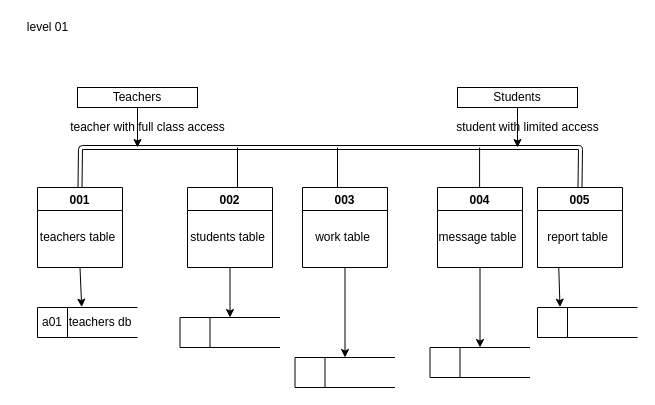
This 655x405 diagram has some shape labels left out. Each missing label, with the centre of its shape:
a02 students db: (229,332)
a03 work db: (344,372)
a04 message db: (479,362)
a05 report db: (587,322)
